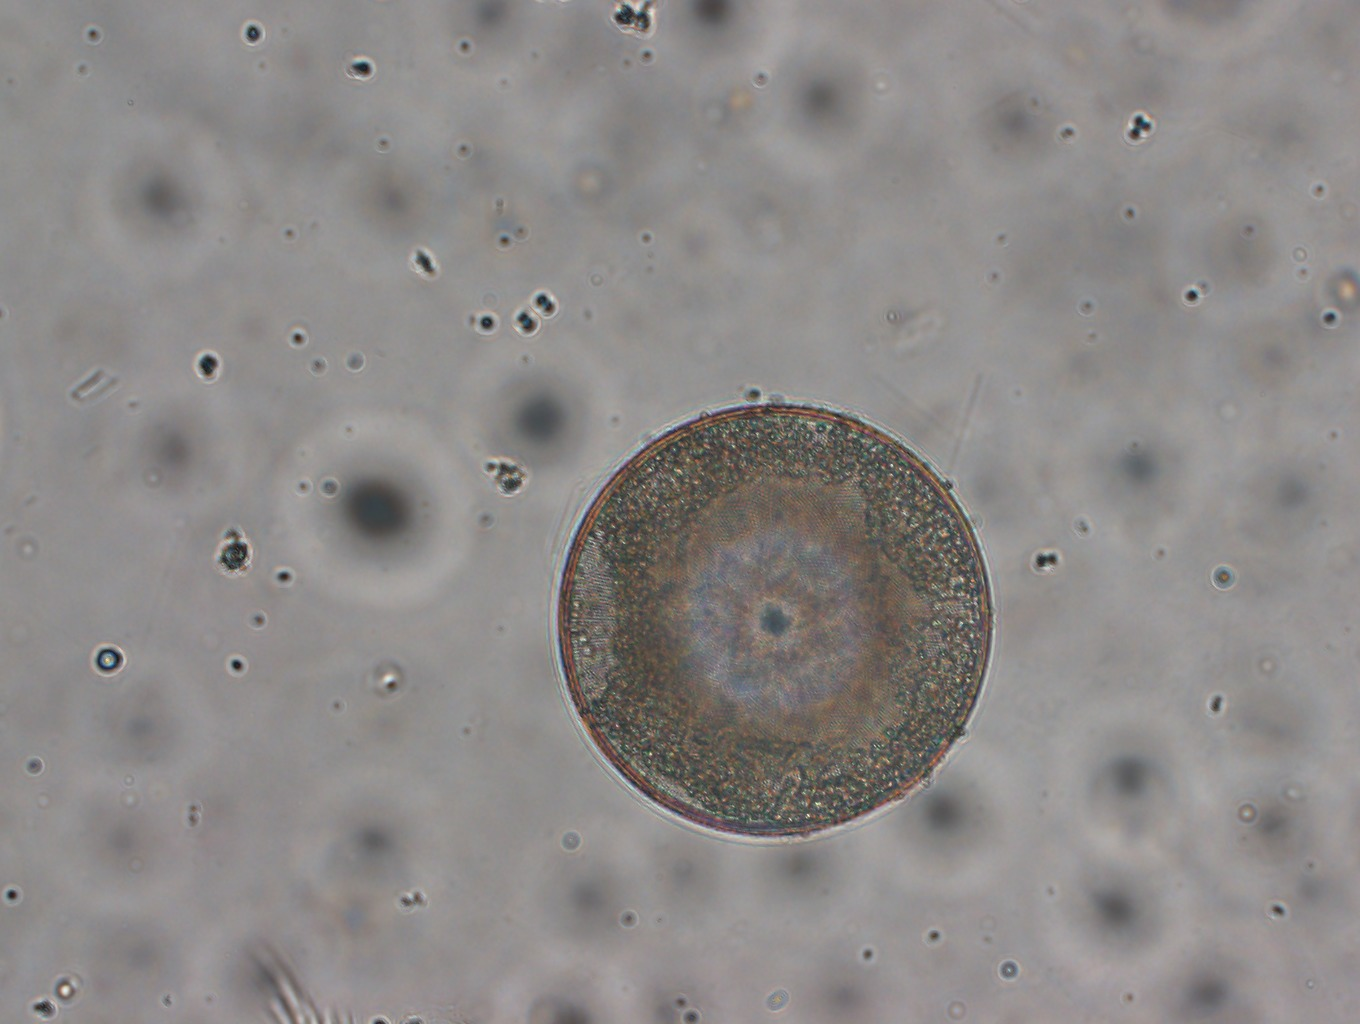coscinodiscus: (554, 403, 994, 843)
